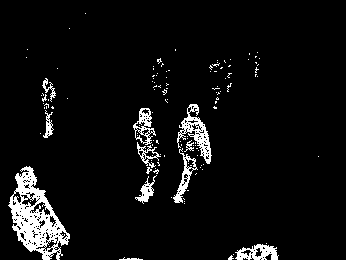person: (8, 164, 71, 260), (171, 102, 213, 204), (131, 105, 162, 205), (38, 76, 58, 139)
